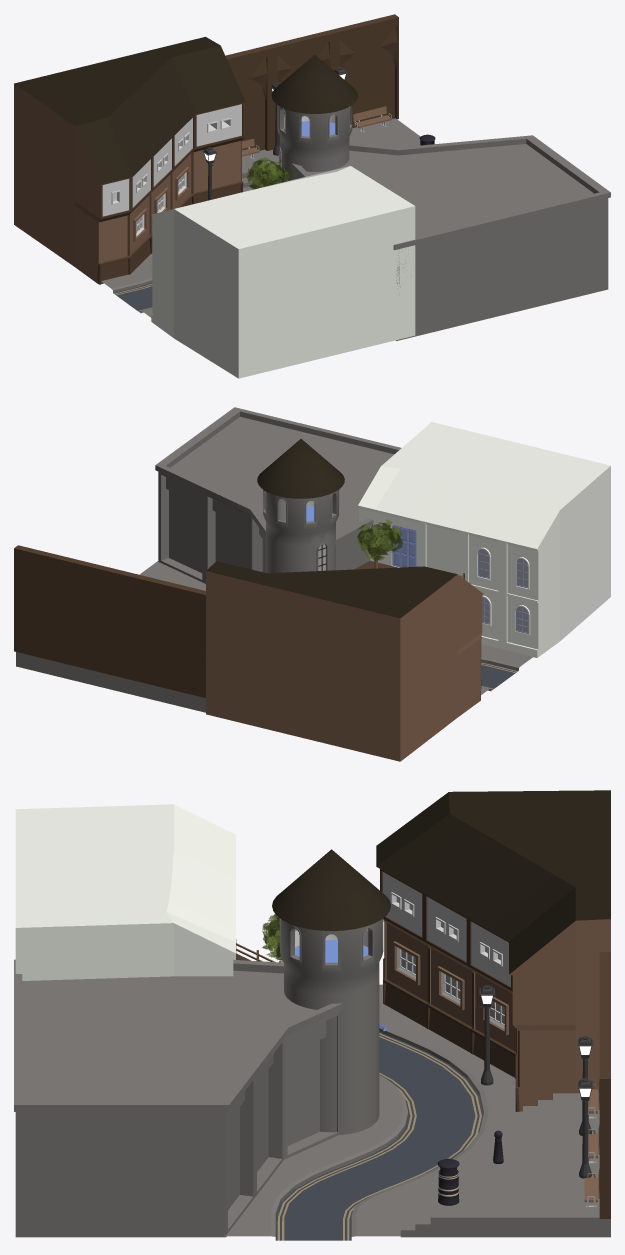
Rendered from curved.glb.
3 renders of one model, top to bottom at view 1: azimuth 30°, elevation 25°; view 2: azimuth 150°, elevation 25°; view 3: azimuth 270°, elevation 25°, orthographic. The views are drawn at different scales.
Parts seen in each view (by area): view 1: Cube.044, Cylinder.005, Cube.045, Cube.047, Cube.046, CurvedStreet, leaves, bench; view 2: Cube.045, Cube.044, Cylinder.005, Cube.047, Cube.046, CurvedStreet, leaves, Cube.103; view 3: Cylinder.005, Cube.045, Cube.044, CurvedStreet, Cube.046, Cube.047, Body (×2), trash, leaves, Cylinder.006.
Part boxes in pixels (x1=…): Cube.044: x1=151, y1=166, x2=415, y2=378; Cylinder.005: x1=271, y1=55, x2=610, y2=340; Cube.045: x1=14, y1=36, x2=245, y2=284; Cube.047: x1=225, y1=14, x2=398, y2=150; Cube.046: x1=242, y1=118, x2=420, y2=191; CurvedStreet: x1=101, y1=253, x2=152, y2=317; leaves: x1=246, y1=157, x2=291, y2=189; bench: x1=352, y1=106, x2=391, y2=132; Cube.045: x1=206, y1=561, x2=483, y2=761; Cube.044: x1=358, y1=422, x2=610, y2=657; Cylinder.005: x1=155, y1=407, x2=401, y2=583; Cube.047: x1=14, y1=545, x2=207, y2=697; Cube.046: x1=16, y1=652, x2=205, y2=712; CurvedStreet: x1=140, y1=561, x2=532, y2=694; leaves: x1=357, y1=519, x2=402, y2=560; Cube.103: x1=392, y1=524, x2=416, y2=567; Cylinder.005: x1=14, y1=849, x2=390, y2=1237; Cube.045: x1=376, y1=790, x2=610, y2=1111; Cube.044: x1=15, y1=804, x2=235, y2=980; CurvedStreet: x1=224, y1=984, x2=522, y2=1240; Cube.046: x1=400, y1=1093, x2=610, y2=1237; Cube.047: x1=599, y1=952, x2=610, y2=1218; Body (×2): x1=479, y1=985, x2=593, y2=1178; trash: x1=437, y1=1159, x2=459, y2=1205; leaves: x1=262, y1=914, x2=283, y2=962; Cylinder.006: x1=295, y1=930, x2=368, y2=962.
Bounding box in the file's own units: 20.34 × 10.14 × 20.05.
19 materials, 1 textured.
